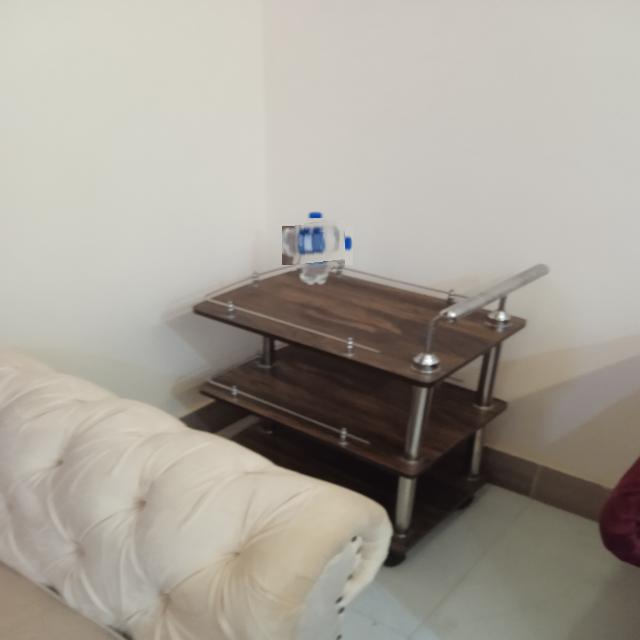Plastic: (290, 218, 345, 274)
